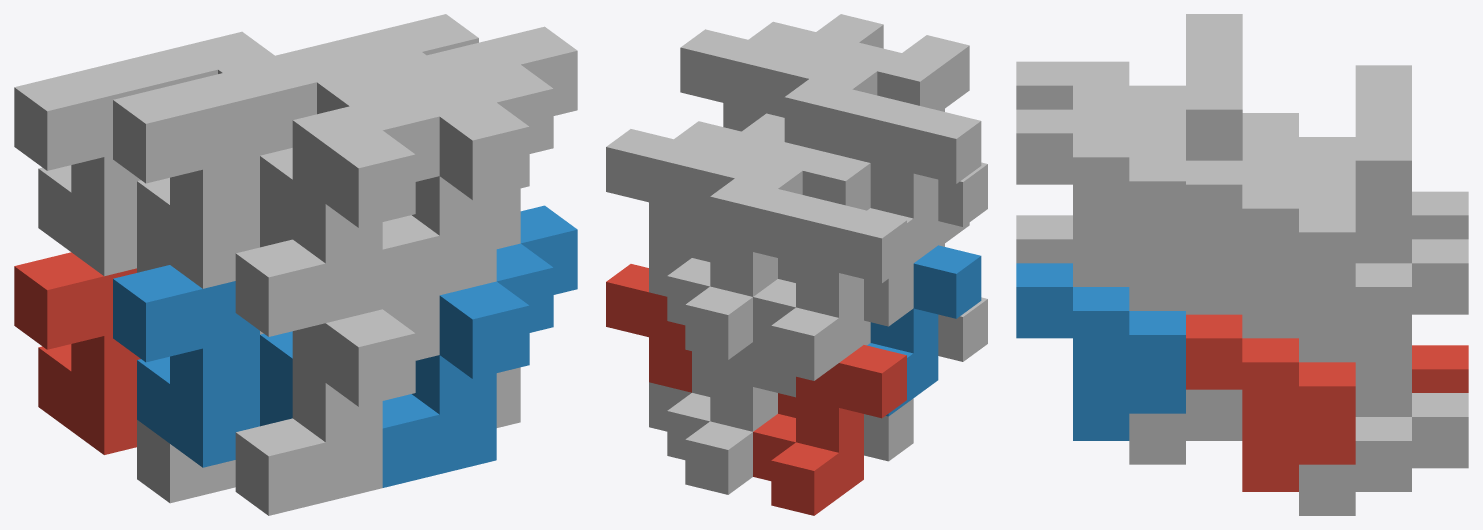
Rendered from tiling.obj.
3 renders of one model, left to right at view 1: azimuth 30°, elevation 25°; view 2: azimuth 150°, elevation 25°; view 3: azimuth 270°, elevation 25°, orthographic. The views are drawn at different scales.
Visible parts, largest first — view 1: copy_2_domain_4, copy_2_domain_8, copy_1_domain_4, copy_2_domain_2, copy_2_domain_6, copy_1_domain_2, copy_1_domain_3, copy_1_domain_1, copy_1_domain_8, copy_2_domain_1, copy_2_domain_7, copy_1_domain_7 (+2 smaller); view 2: copy_1_domain_3, copy_1_domain_7, copy_1_domain_1, copy_1_domain_5, copy_2_domain_4, copy_1_domain_4, copy_2_domain_7, copy_2_domain_8, copy_2_domain_3, copy_1_domain_2, copy_1_domain_8, copy_2_domain_5 (+2 smaller); view 3: copy_2_domain_7, copy_2_domain_8, copy_1_domain_7, copy_2_domain_5, copy_2_domain_6, copy_1_domain_5, copy_1_domain_8, copy_2_domain_4, copy_1_domain_6, copy_1_domain_3, copy_2_domain_3, copy_2_domain_2 (+2 smaller).
Part boxes in pixels (box(x1,y1,x2,y2)): copy_2_domain_4: box(235, 54, 463, 336); copy_2_domain_8: box(382, 26, 577, 308); copy_1_domain_4: box(113, 72, 292, 288); copy_2_domain_2: box(235, 295, 439, 515); copy_2_domain_6: box(382, 205, 577, 487); copy_1_domain_2: box(113, 265, 292, 467); copy_1_domain_3: box(14, 59, 161, 276); copy_1_domain_1: box(14, 252, 140, 454); copy_1_domain_8: box(227, 44, 520, 248); copy_2_domain_1: box(137, 420, 235, 503); copy_2_domain_7: box(332, 14, 478, 67); copy_1_domain_7: box(128, 31, 274, 87); copy_1_domain_3: box(753, 199, 906, 380); copy_1_domain_7: box(649, 178, 820, 359); copy_1_domain_1: box(753, 345, 906, 515); copy_1_domain_5: box(649, 342, 795, 494); copy_2_domain_4: box(766, 35, 987, 226); copy_1_domain_4: box(867, 100, 981, 281); copy_2_domain_7: box(606, 113, 784, 257); copy_2_domain_8: box(680, 14, 883, 131); copy_2_domain_3: box(692, 142, 913, 326); copy_1_domain_2: box(867, 245, 981, 416); copy_1_domain_8: box(784, 79, 894, 162); copy_2_domain_5: box(606, 264, 691, 392); copy_2_domain_7: box(1186, 160, 1355, 338); copy_2_domain_8: box(1016, 109, 1185, 286); copy_1_domain_7: box(1299, 113, 1468, 362); copy_2_domain_5: box(1186, 314, 1355, 491); copy_2_domain_6: box(1016, 263, 1185, 440); copy_1_domain_5: box(1299, 338, 1468, 515); copy_1_domain_8: box(1129, 61, 1242, 310); copy_2_domain_4: box(1016, 61, 1185, 133); copy_1_domain_6: box(1129, 287, 1242, 464); copy_1_domain_3: box(1355, 65, 1468, 239); copy_2_domain_3: box(1242, 113, 1355, 184); copy_2_domain_2: box(1016, 215, 1072, 263).
Size of the model in its own units: 7 by 7 by 8.
